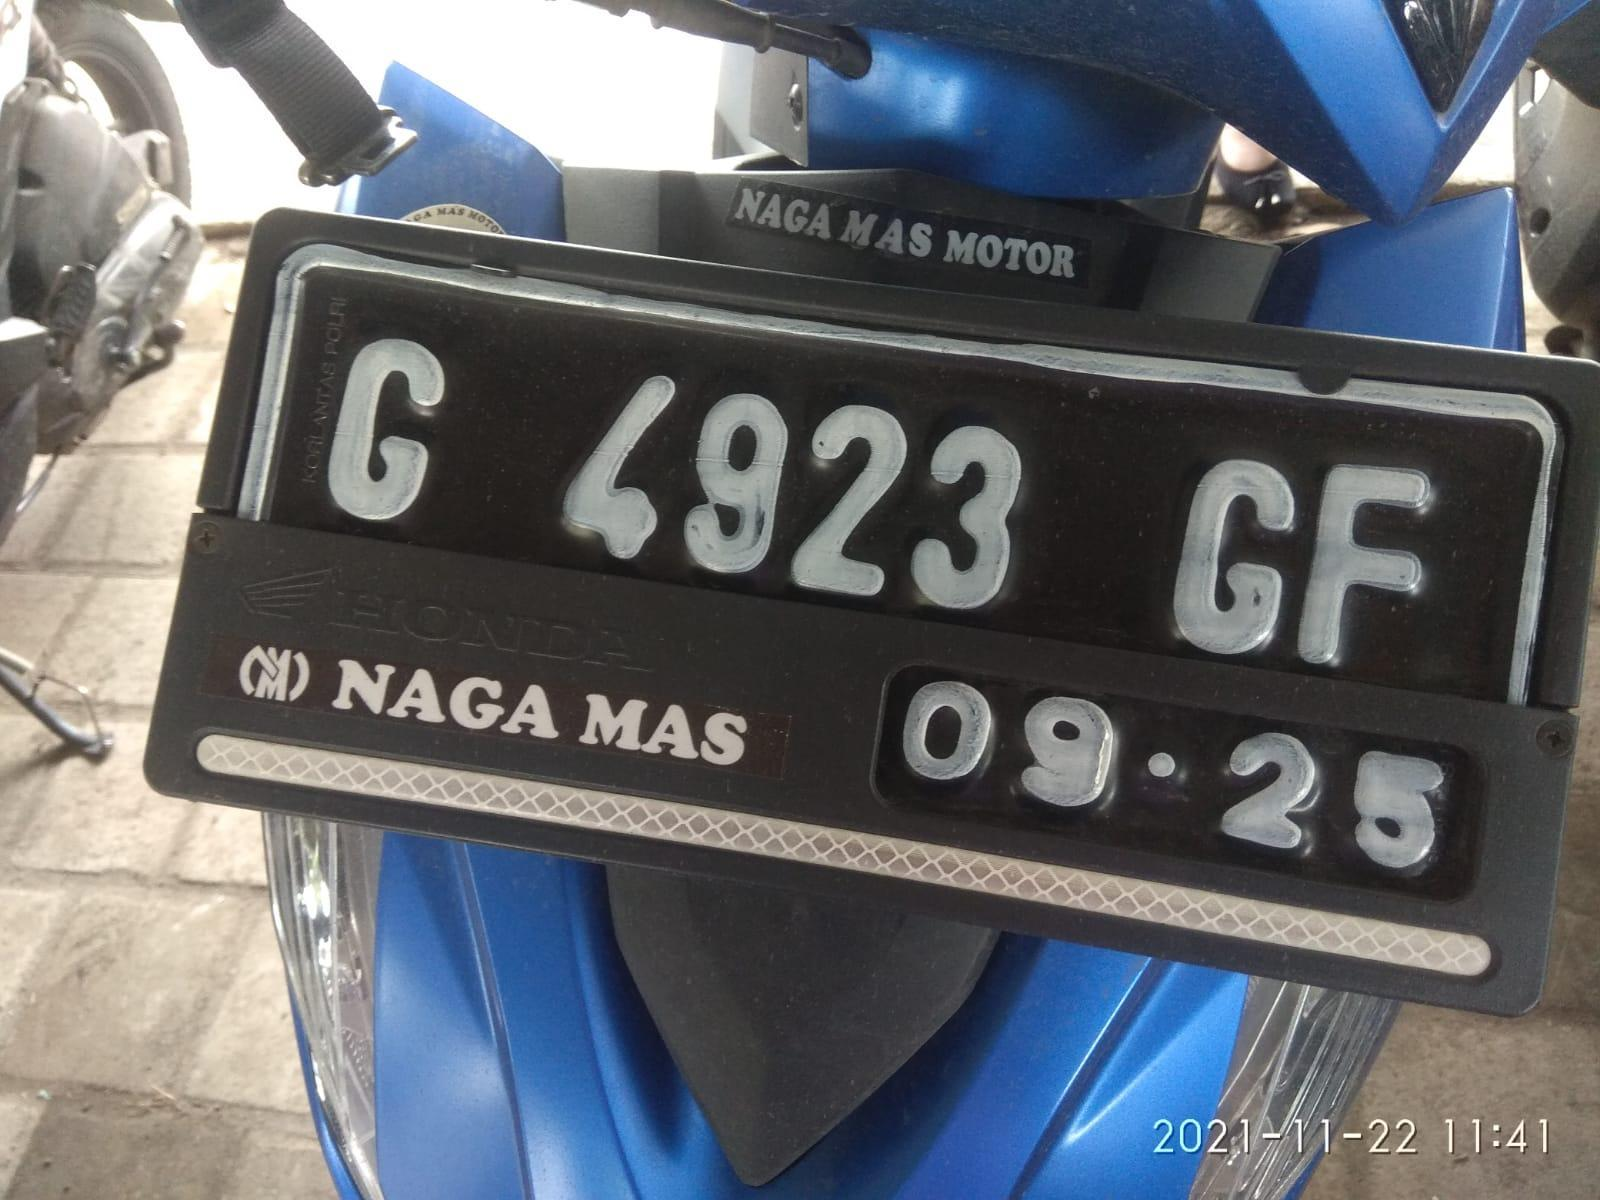clone-license-plate: (191, 210, 1540, 1024)
